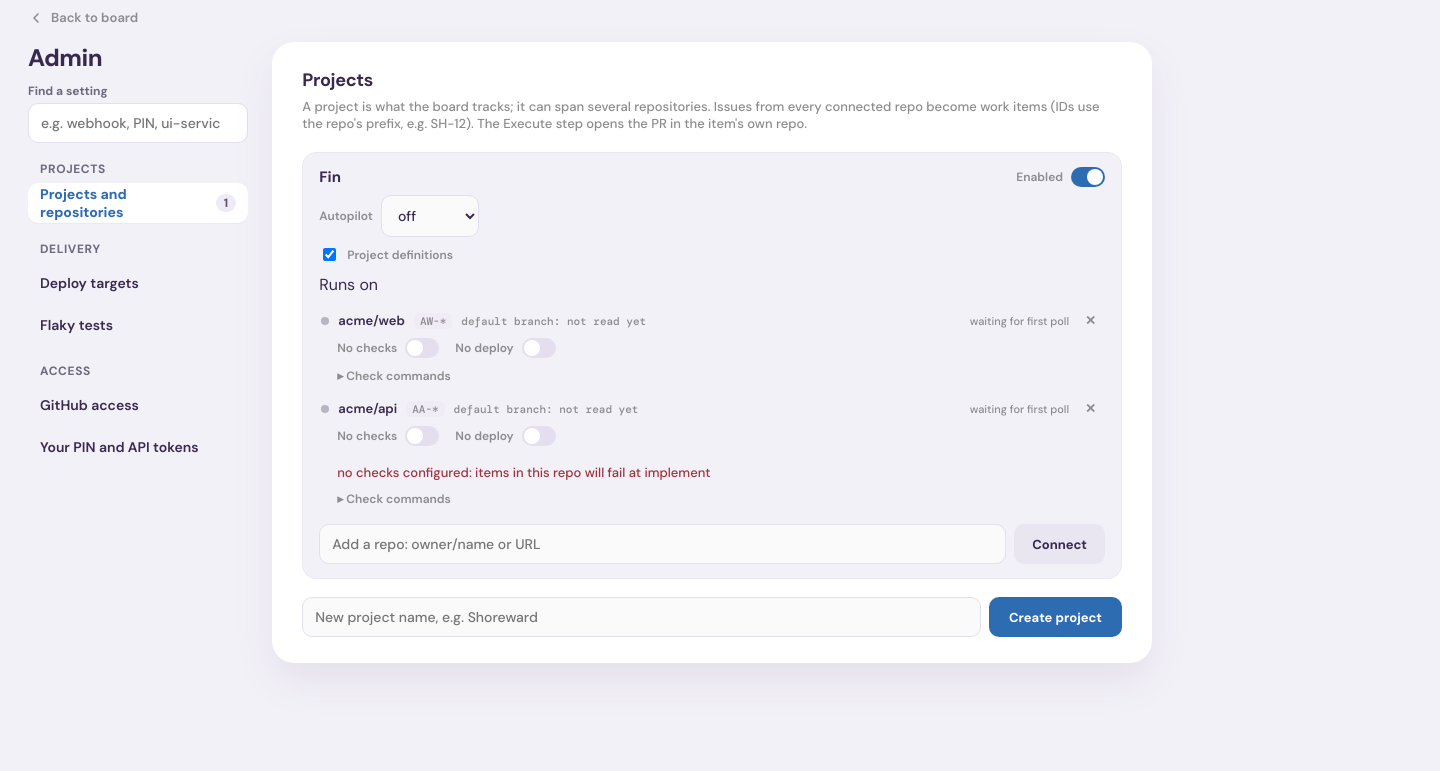
Test: saving check commands needs the PIN and sends the edited slots with it
Click the 1st button "▸ Check commands" at (394, 376), box [337,368,451,384]
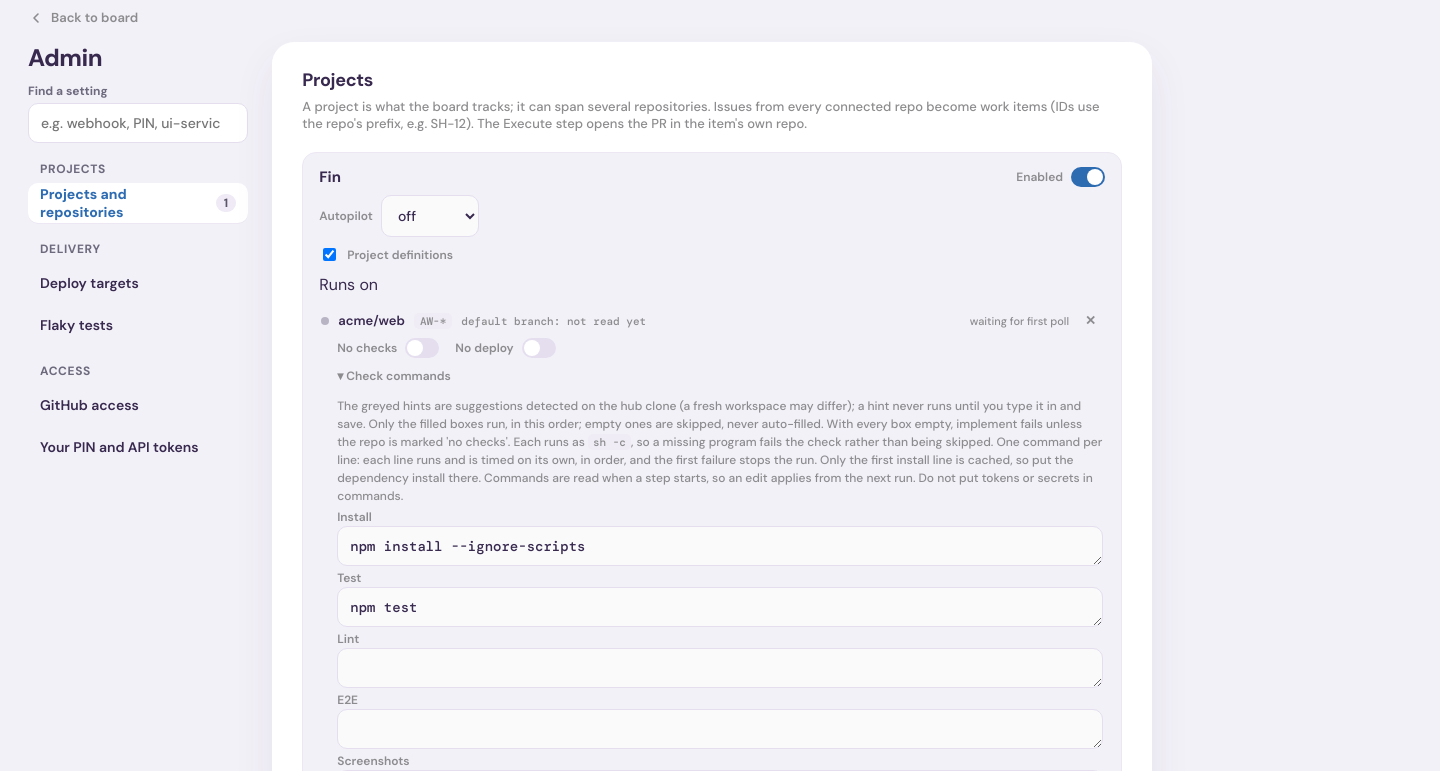
Type "npm run lint" into the text box named "Lint command for acme/web" at (720, 668), box [337,648,1103,688]
(page scrolled)
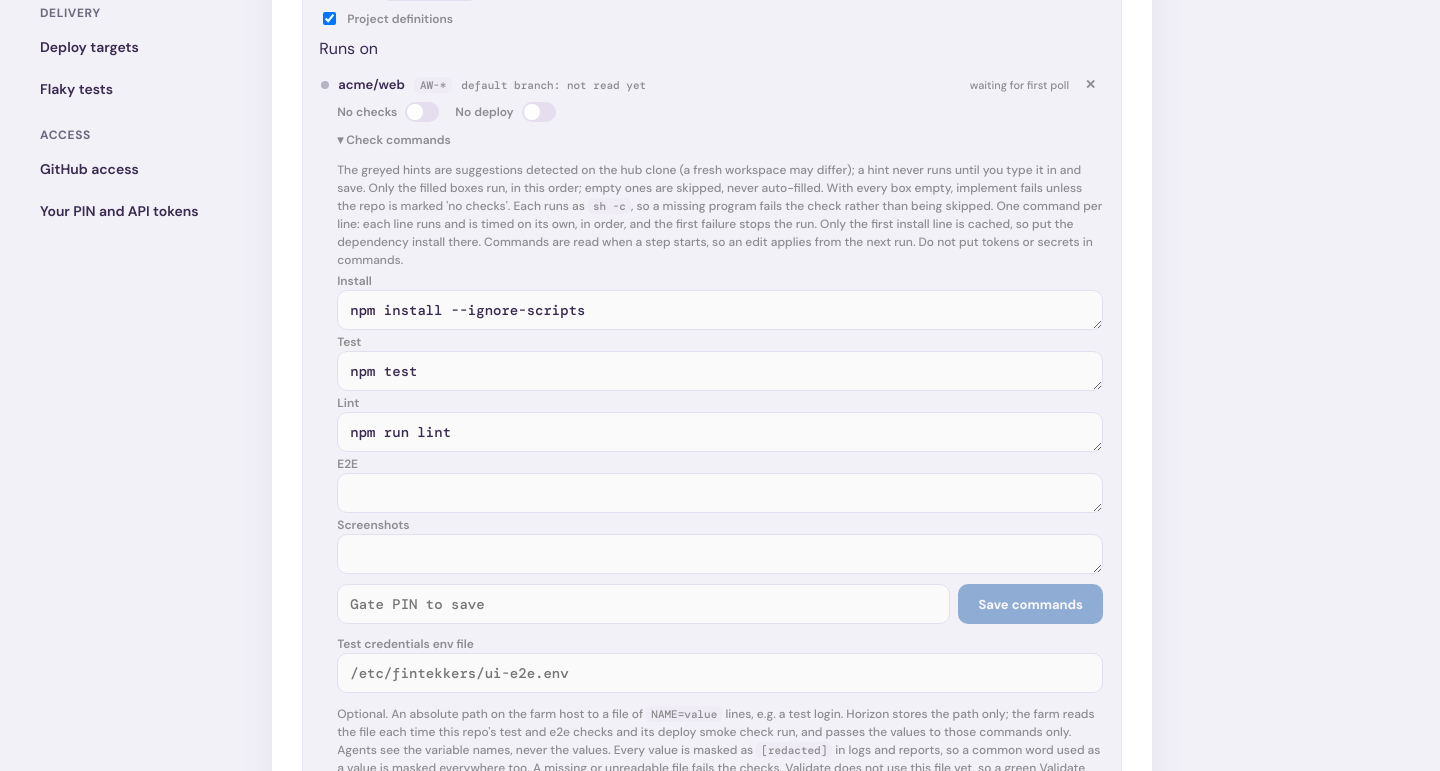
Check: the button "Save commands" is disabled, box [958,584,1103,624]
Submit the form named "Gate PIN to save check commands for acme/web", box [337,161,1103,624]
Type "wrong-pin" into the password field named "Gate PIN to save check commands for acme/web" at (644, 604), box [337,584,950,624]
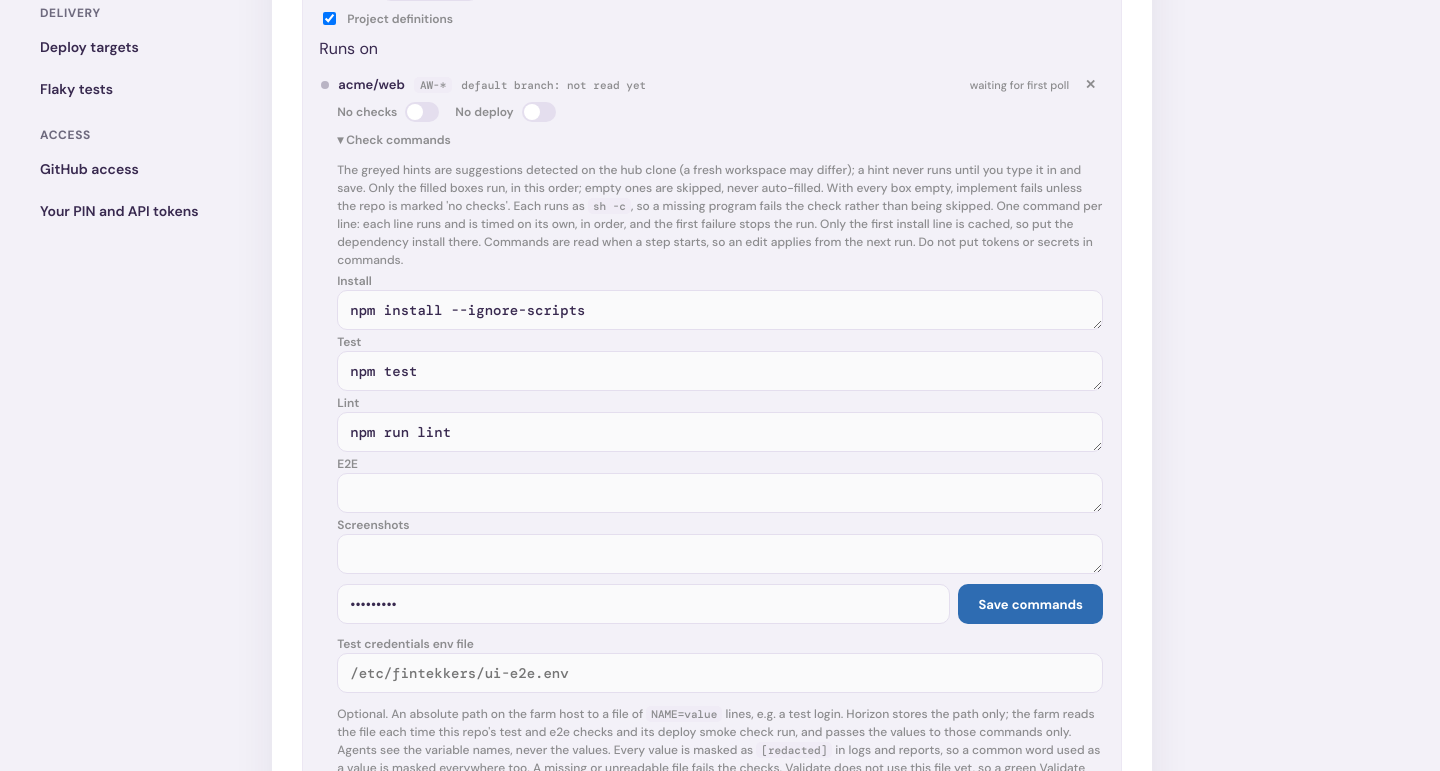
Click the button "Save commands" at (1031, 604), box [958,584,1103,624]
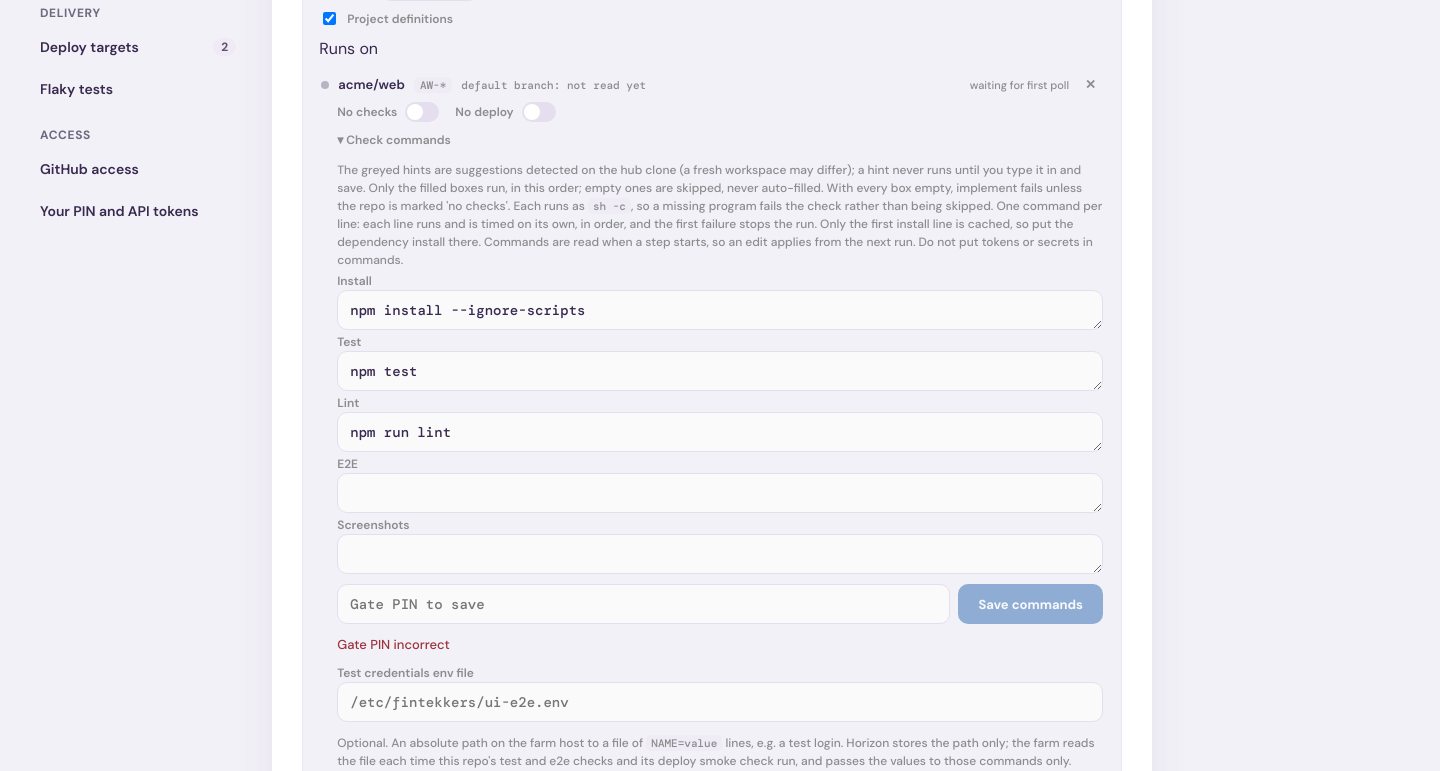
Check: the text "Check commands saved." is not shown
Check: the text "Gate PIN incorrect" is shown, box [337,636,450,653]
Type "right-pin" into the password field named "Gate PIN to save check commands for acme/web" at (644, 604), box [337,584,950,624]
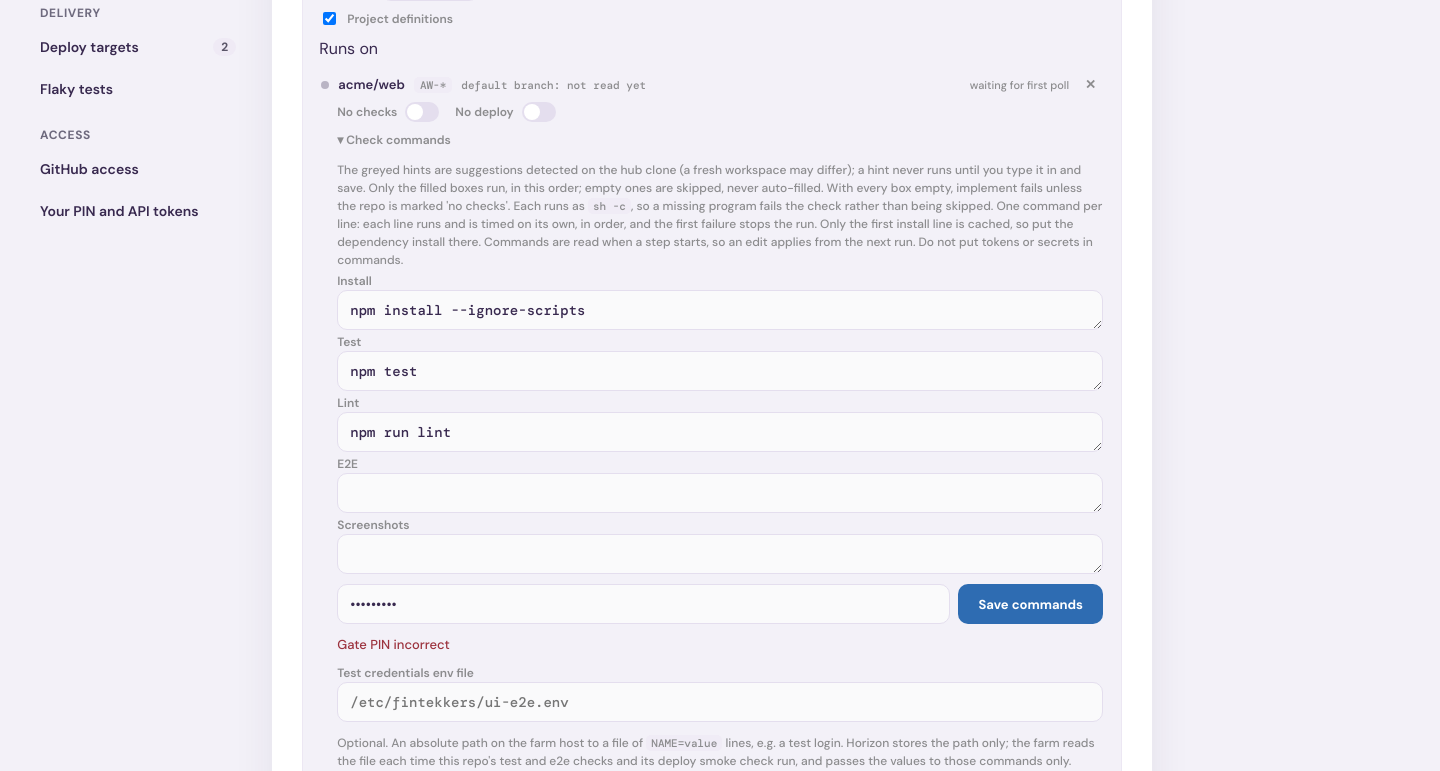
Click the button "Save commands" at (1031, 604), box [958,584,1103,624]
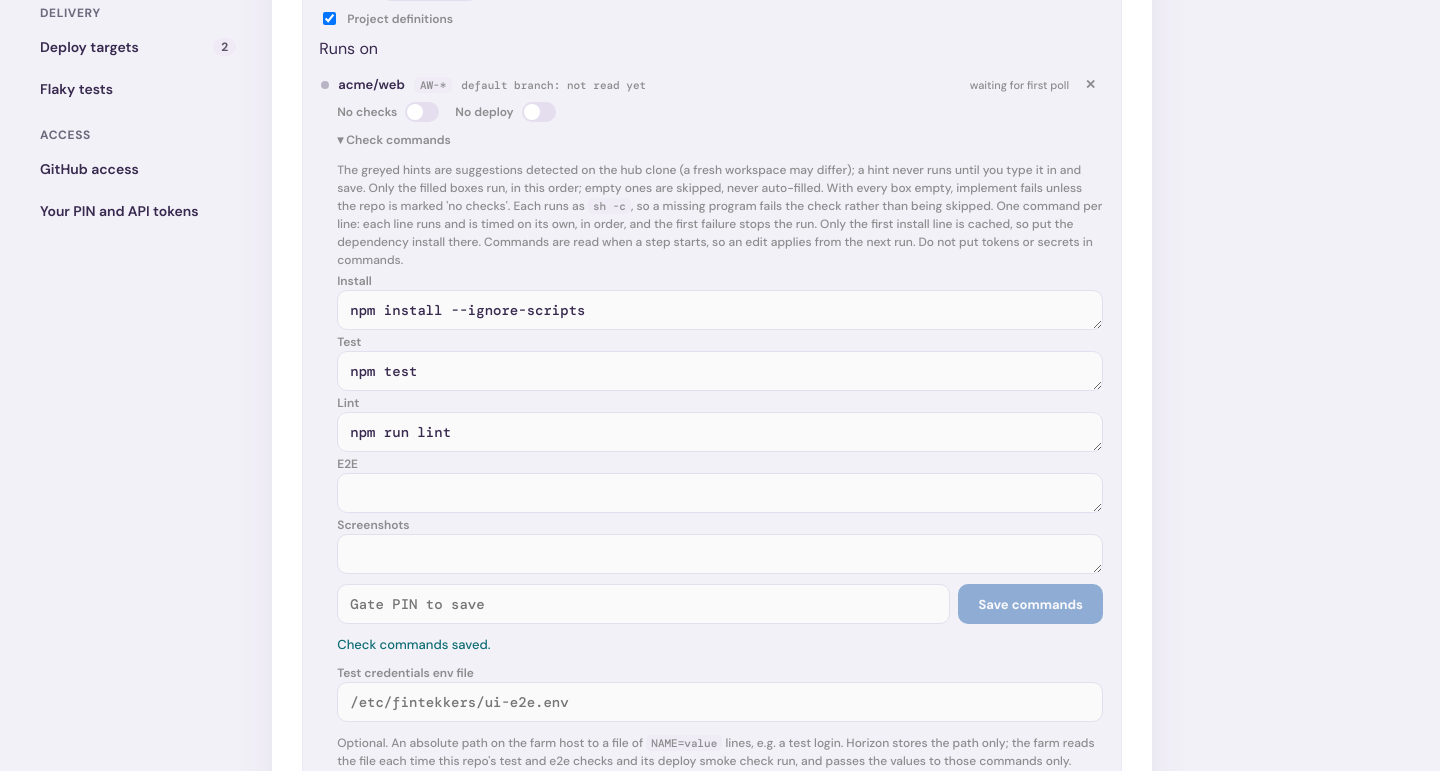
Check: the text "Check commands saved." is shown, box [337,636,490,653]
Check: the password field named "Gate PIN to save check commands for acme/web" is empty, box [337,584,950,624]
